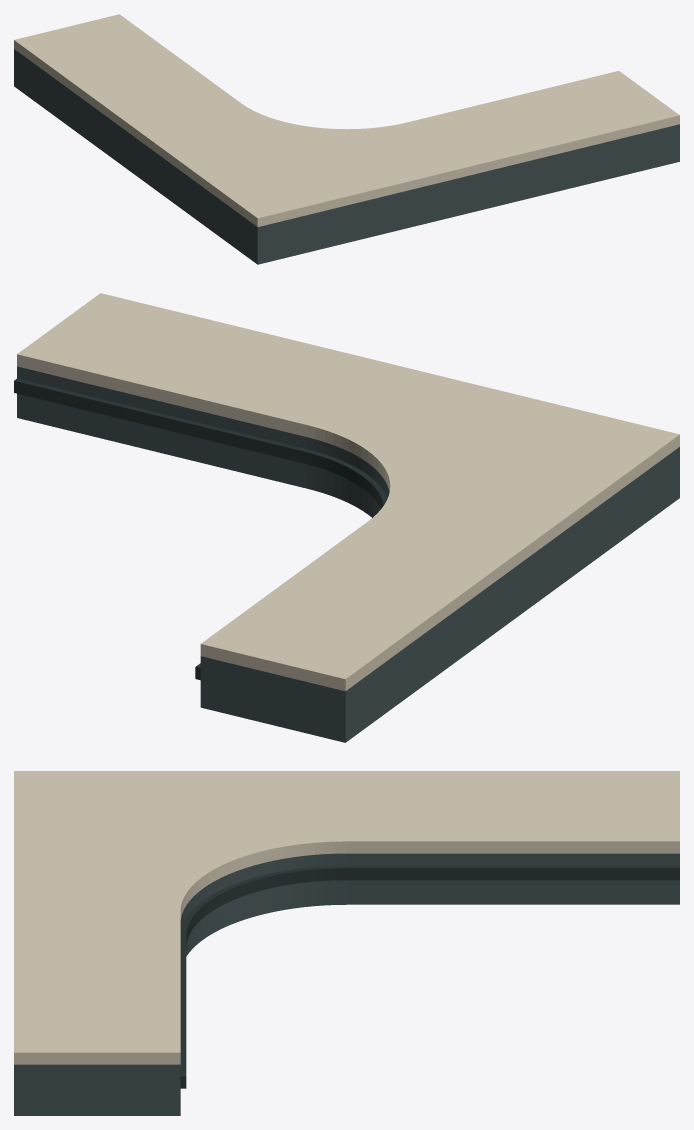
Rendered from foundation-inner-corner-2m.glb.
3 renders of one model, top to bottom at view 1: azimuth 30°, elevation 25°; view 2: azimuth 150°, elevation 25°; view 3: azimuth 270°, elevation 25°, orthographic. The views are drawn at different scales.
Visible parts, largest first — view 1: foundation-inner-corner-2m / 01 • warm porcelain paint, foundation-inner-corner-2m / 06 • dark anodized frame; view 2: foundation-inner-corner-2m / 01 • warm porcelain paint, foundation-inner-corner-2m / 06 • dark anodized frame, foundation-inner-corner-2m / 04 • graphite gasket; view 3: foundation-inner-corner-2m / 01 • warm porcelain paint, foundation-inner-corner-2m / 06 • dark anodized frame, foundation-inner-corner-2m / 04 • graphite gasket.
Part boxes in pixels (box(x1,y1,x2,y2)): foundation-inner-corner-2m / 01 • warm porcelain paint: box(14, 14, 679, 226); foundation-inner-corner-2m / 06 • dark anodized frame: box(14, 49, 679, 264); foundation-inner-corner-2m / 01 • warm porcelain paint: box(17, 293, 679, 691); foundation-inner-corner-2m / 06 • dark anodized frame: box(17, 366, 679, 742); foundation-inner-corner-2m / 04 • graphite gasket: box(14, 378, 387, 680); foundation-inner-corner-2m / 01 • warm porcelain paint: box(14, 771, 679, 1064); foundation-inner-corner-2m / 06 • dark anodized frame: box(14, 853, 679, 1115); foundation-inner-corner-2m / 04 • graphite gasket: box(180, 865, 679, 1088).
Bounding box in the file's own units: 2 × 0.21 × 2.
